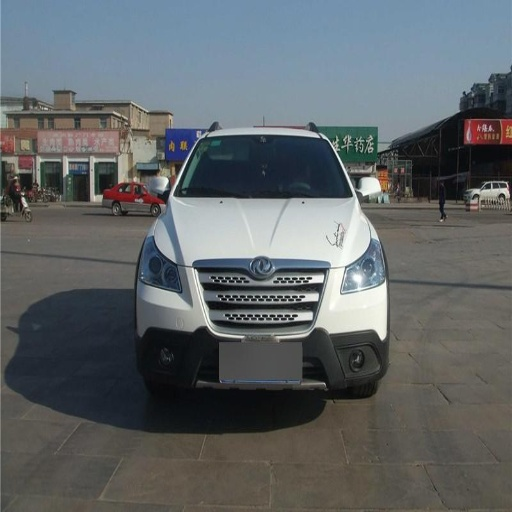front_bumper: (137, 259, 386, 396)
front_right_light: (139, 223, 185, 293)
hood: (164, 196, 370, 267)
